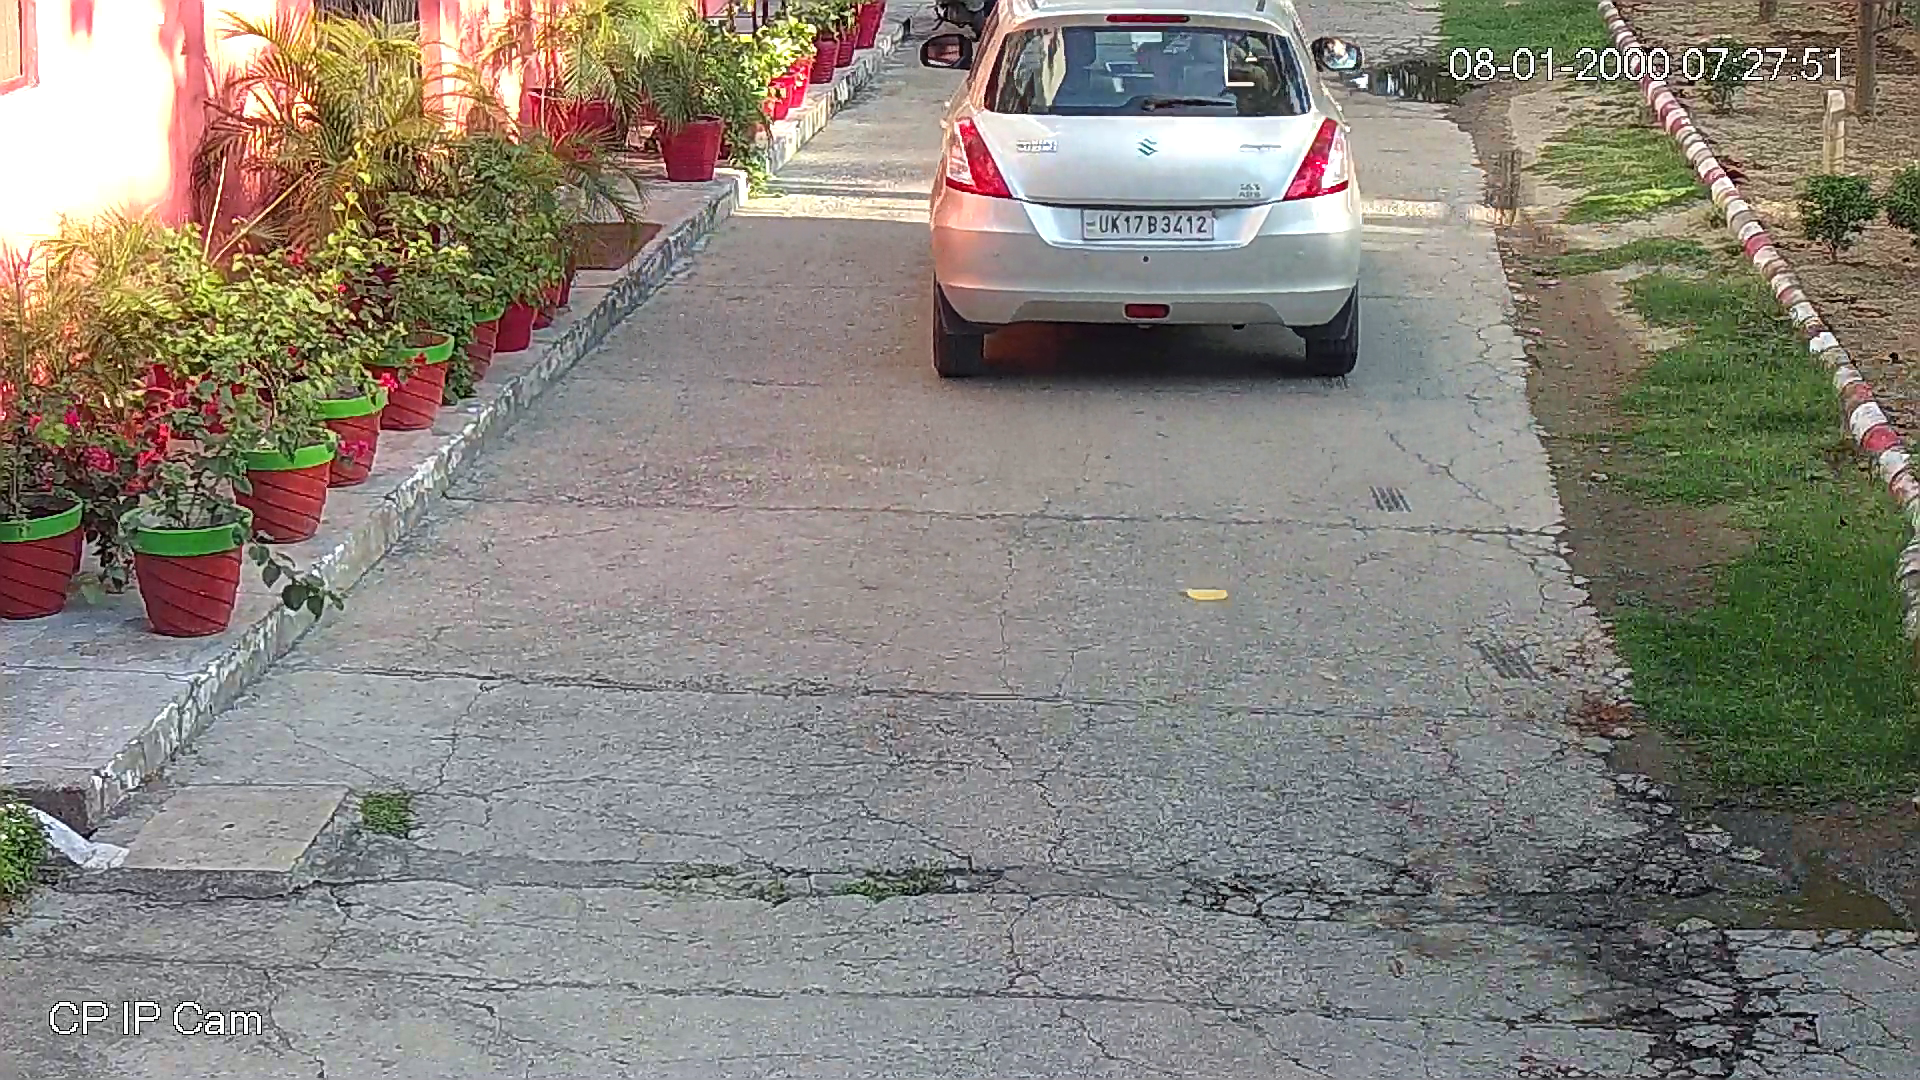plate: (1083, 203, 1216, 242)
